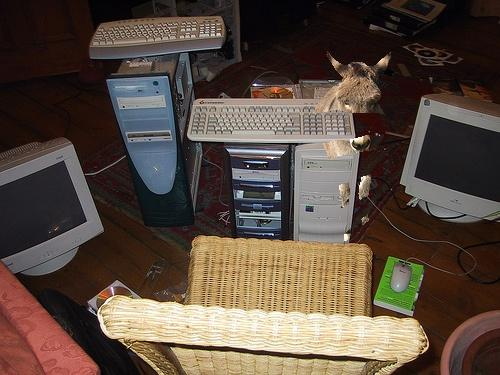tampered: (314, 52, 391, 241)
